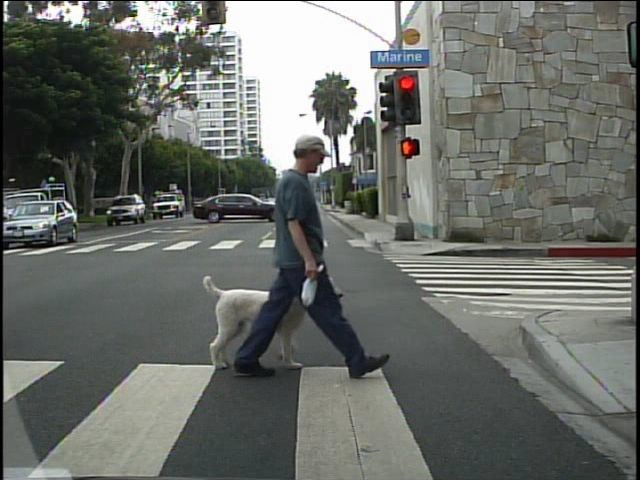person: (245, 117, 371, 385)
